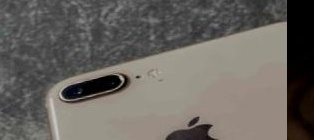scratch: (52, 72, 131, 102), (160, 119, 217, 140), (156, 74, 170, 84)
